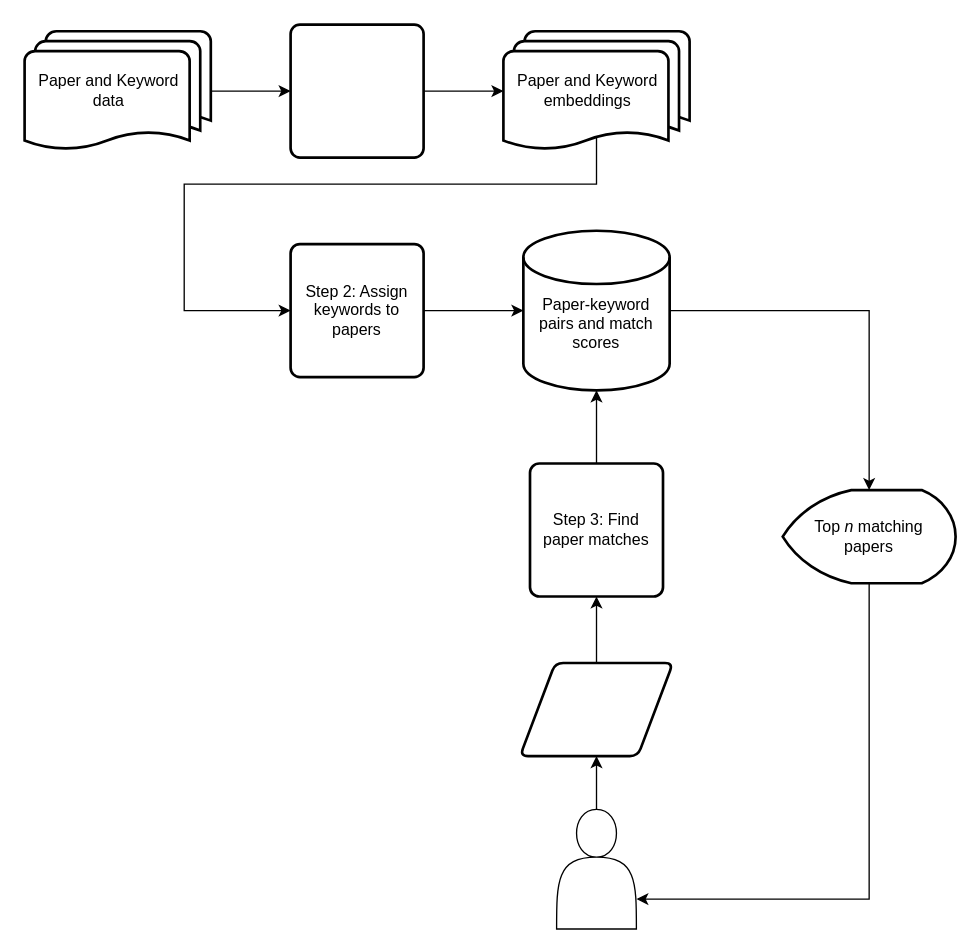
Image size: 979x952. Some labels were removed from this diagram. The shapes that lost their labels are listed below. From the top down, each one's box as (x1, y1, x2, y2) in pixels, then its label:
(289, 23, 424, 158): Step 1: Generate embeddings
(518, 661, 674, 757): Query keywords (list)
(555, 808, 636, 929): User
